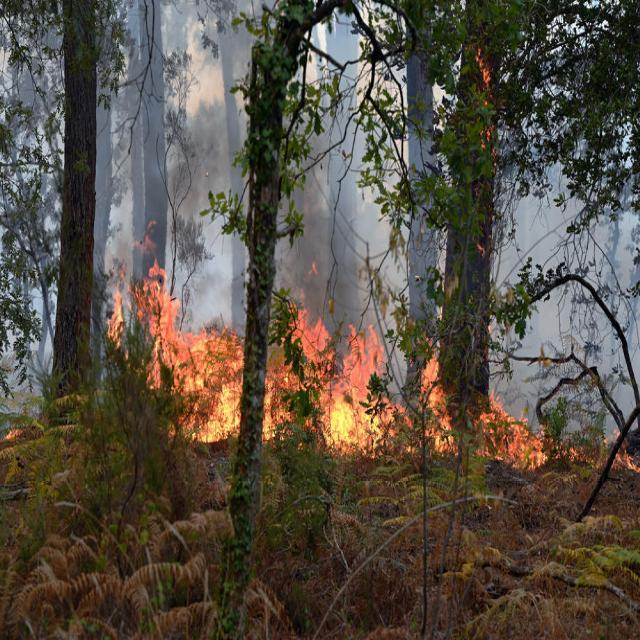Fire: (100, 246, 240, 445), (277, 308, 404, 462), (492, 385, 548, 482), (418, 354, 452, 459)
Smoke: (295, 210, 368, 318), (172, 107, 224, 216)
